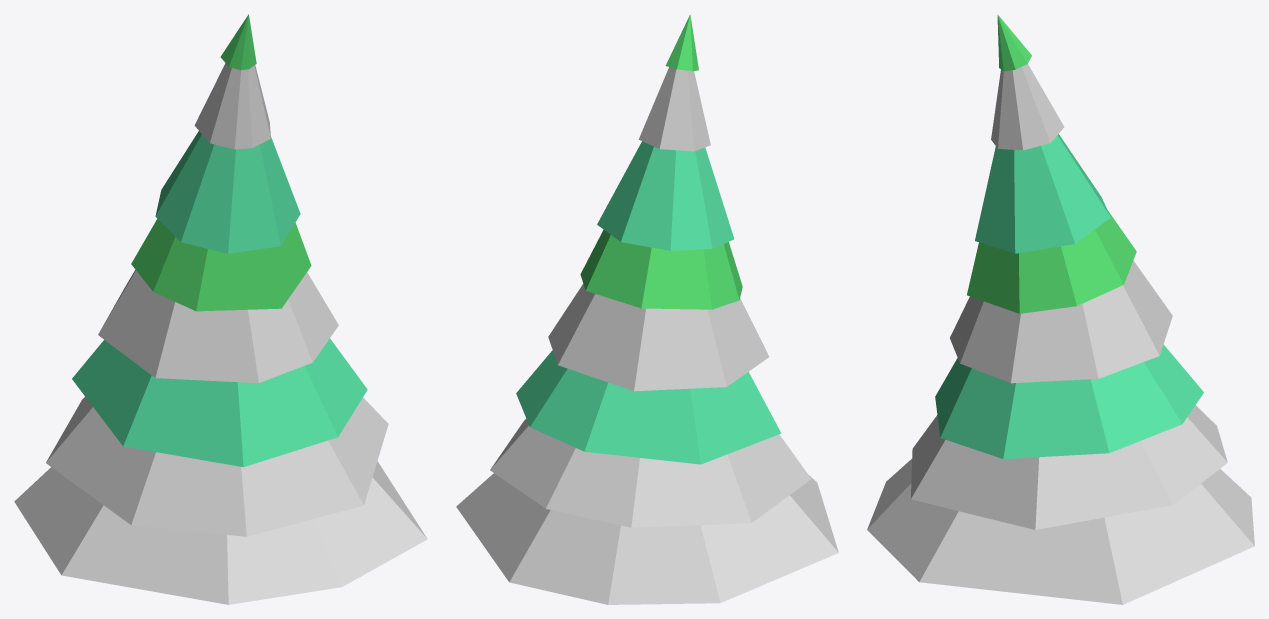
Rendered from PineSnow.fbx.
3 views of the same model, side by side, from view 1: azimuth 30°, elevation 25°; view 2: azimuth 150°, elevation 25°; view 3: azimuth 270°, elevation 25° (orthographic). The views are drawn at different scales.
Visible parts, largest first — view 1: Cone.008, Cone.009, Cone.010, Cone.011, Cone.013, Cone.012, Cone.014, Cone.015; view 2: Cone.008, Cone.009, Cone.010, Cone.011, Cone.013, Cone.012, Cone.014, Cone.015; view 3: Cone.008, Cone.009, Cone.010, Cone.011, Cone.013, Cone.012, Cone.014, Cone.015.
Part boxes in pixels (x1,y1,x2,y2): Cone.008: (14,461,427,604); Cone.009: (46,396,388,536); Cone.010: (72,338,367,467); Cone.011: (98,270,338,383); Cone.013: (155,131,300,253); Cone.012: (131,219,311,311); Cone.014: (194,63,270,149); Cone.015: (220,14,256,70); Cone.008: (456,473,838,604); Cone.009: (490,419,810,527); Cone.010: (516,350,781,464); Cone.011: (548,284,769,391); Cone.013: (597,141,734,250); Cone.012: (580,229,742,309); Cone.014: (638,67,710,151); Cone.015: (665,14,698,71); Cone.008: (867,458,1254,604); Cone.009: (910,405,1227,529); Cone.010: (935,344,1203,459); Cone.011: (950,260,1172,383); Cone.013: (975,134,1110,253); Cone.012: (967,211,1136,313); Cone.014: (991,64,1064,150); Cone.015: (997,14,1031,71).
Bounding box in the file's own units: 500 × 729 × 488.
